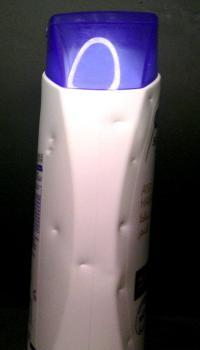dent_marginal: (108, 114, 131, 130), (75, 258, 98, 274), (112, 218, 130, 235), (112, 282, 130, 298), (118, 334, 136, 350), (40, 146, 63, 158), (48, 223, 66, 236), (125, 157, 144, 168), (142, 92, 158, 105), (44, 134, 66, 143)
